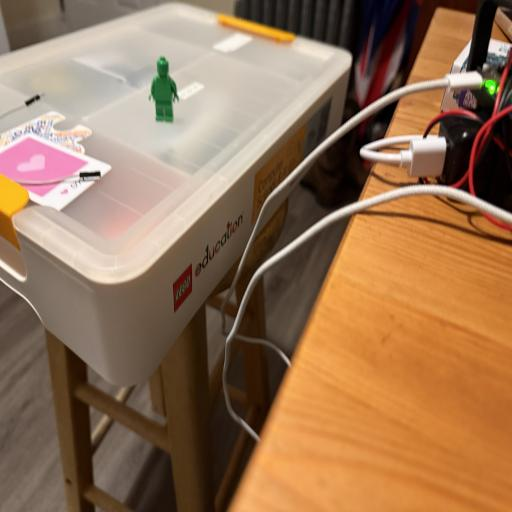Minifig: (150, 56, 179, 122)
